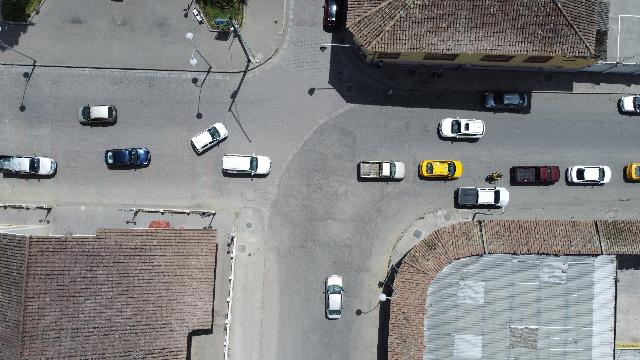Vehiculo: (190, 122, 228, 154), (454, 187, 508, 209), (0, 156, 56, 176), (222, 154, 270, 176), (357, 160, 405, 182), (509, 164, 559, 185), (105, 147, 151, 169), (565, 164, 611, 185), (438, 118, 486, 138), (324, 274, 344, 320), (418, 160, 462, 180), (482, 91, 526, 109), (77, 105, 116, 123), (323, 0, 343, 28), (618, 95, 640, 115), (623, 164, 639, 182)
